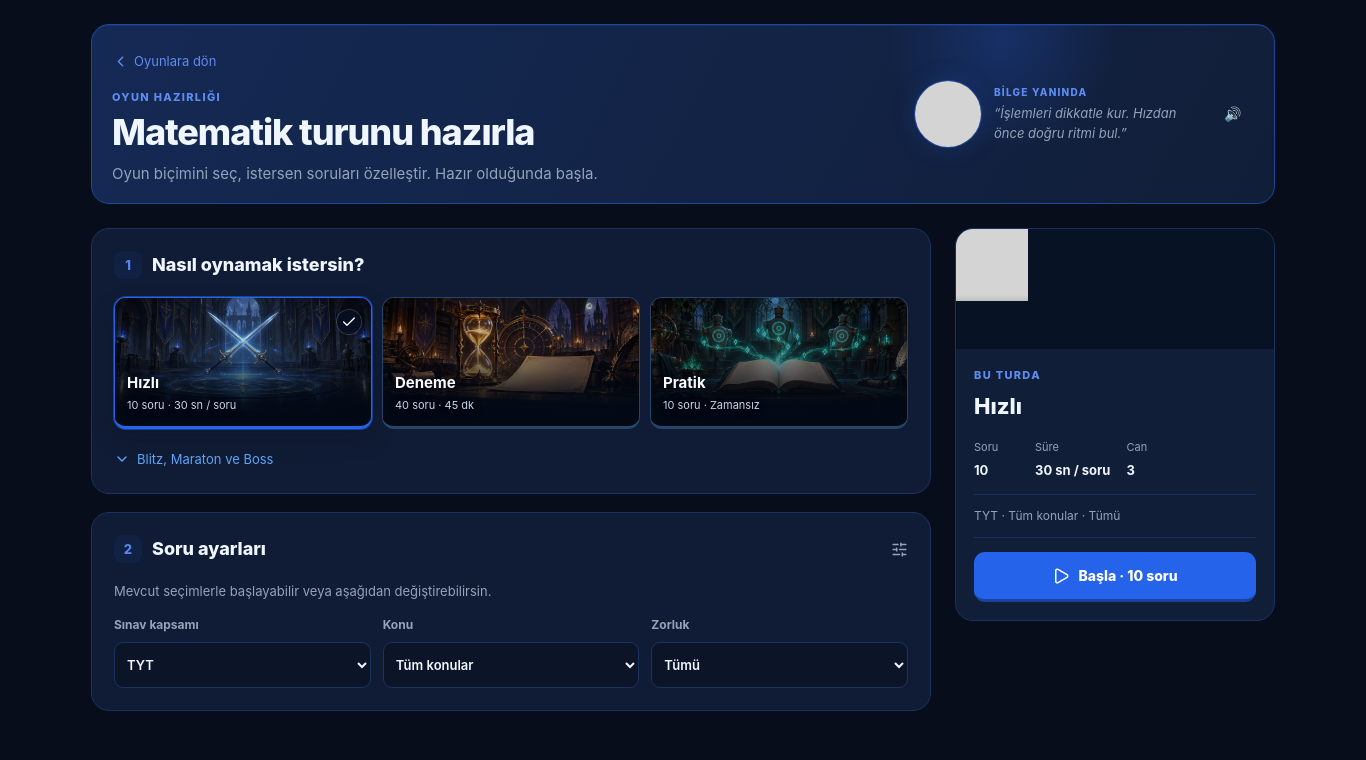
Scenario: Wide game preparation › renders primary scenes and all six decorative mode scenes when expanded
Check: the button with aria-label "Hızlı, 10 soru" is shown, box [114,298,372,430]
Check: the button with aria-label "Deneme, 40 soru" is shown, box [382,298,640,430]
Click the button "Blitz, Maraton ve Boss" at (194, 460), box [114,440,274,480]
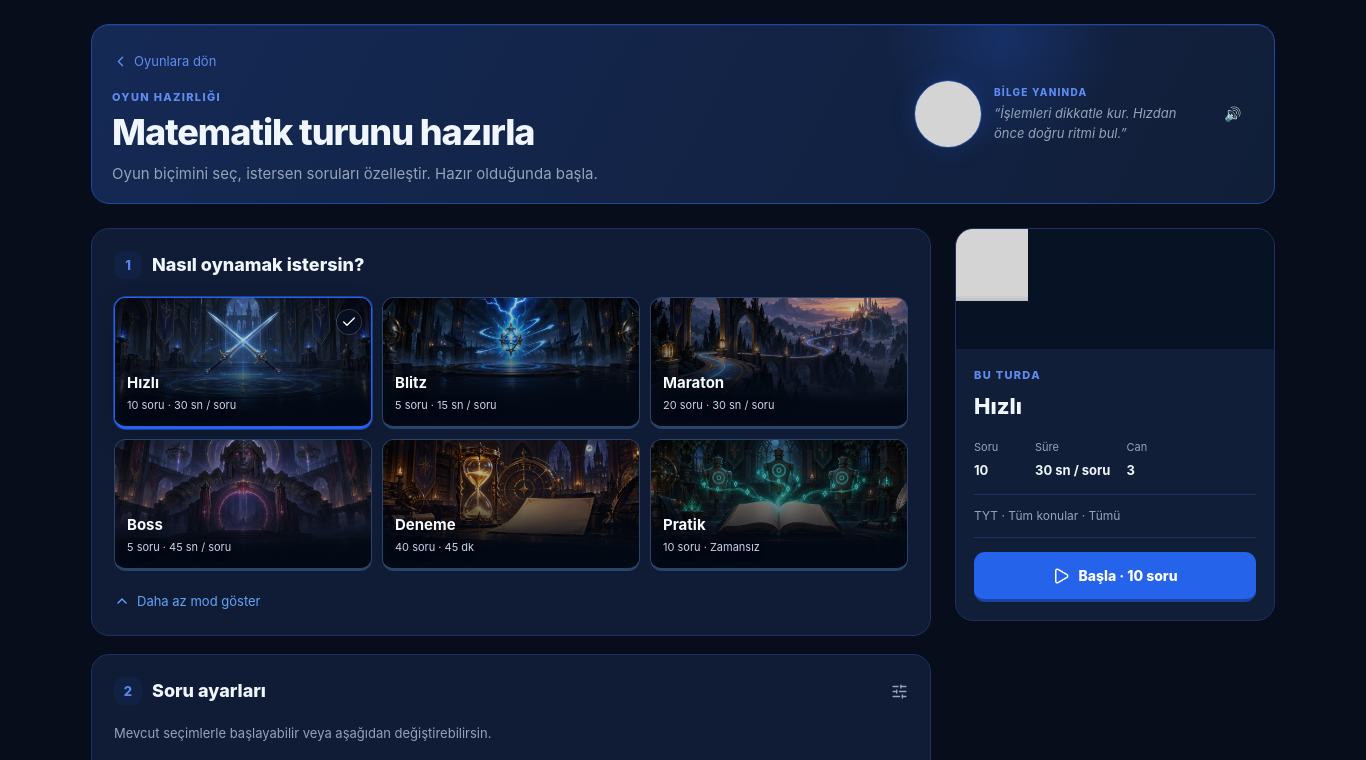
Check: the button with aria-label "Blitz, 5 soru" is shown, box [382,298,640,430]
Check: the button with aria-label "Maraton, 20 soru" is shown, box [650,298,908,430]
Check: the button with aria-label "Boss, 5 soru" is shown, box [114,440,372,572]
